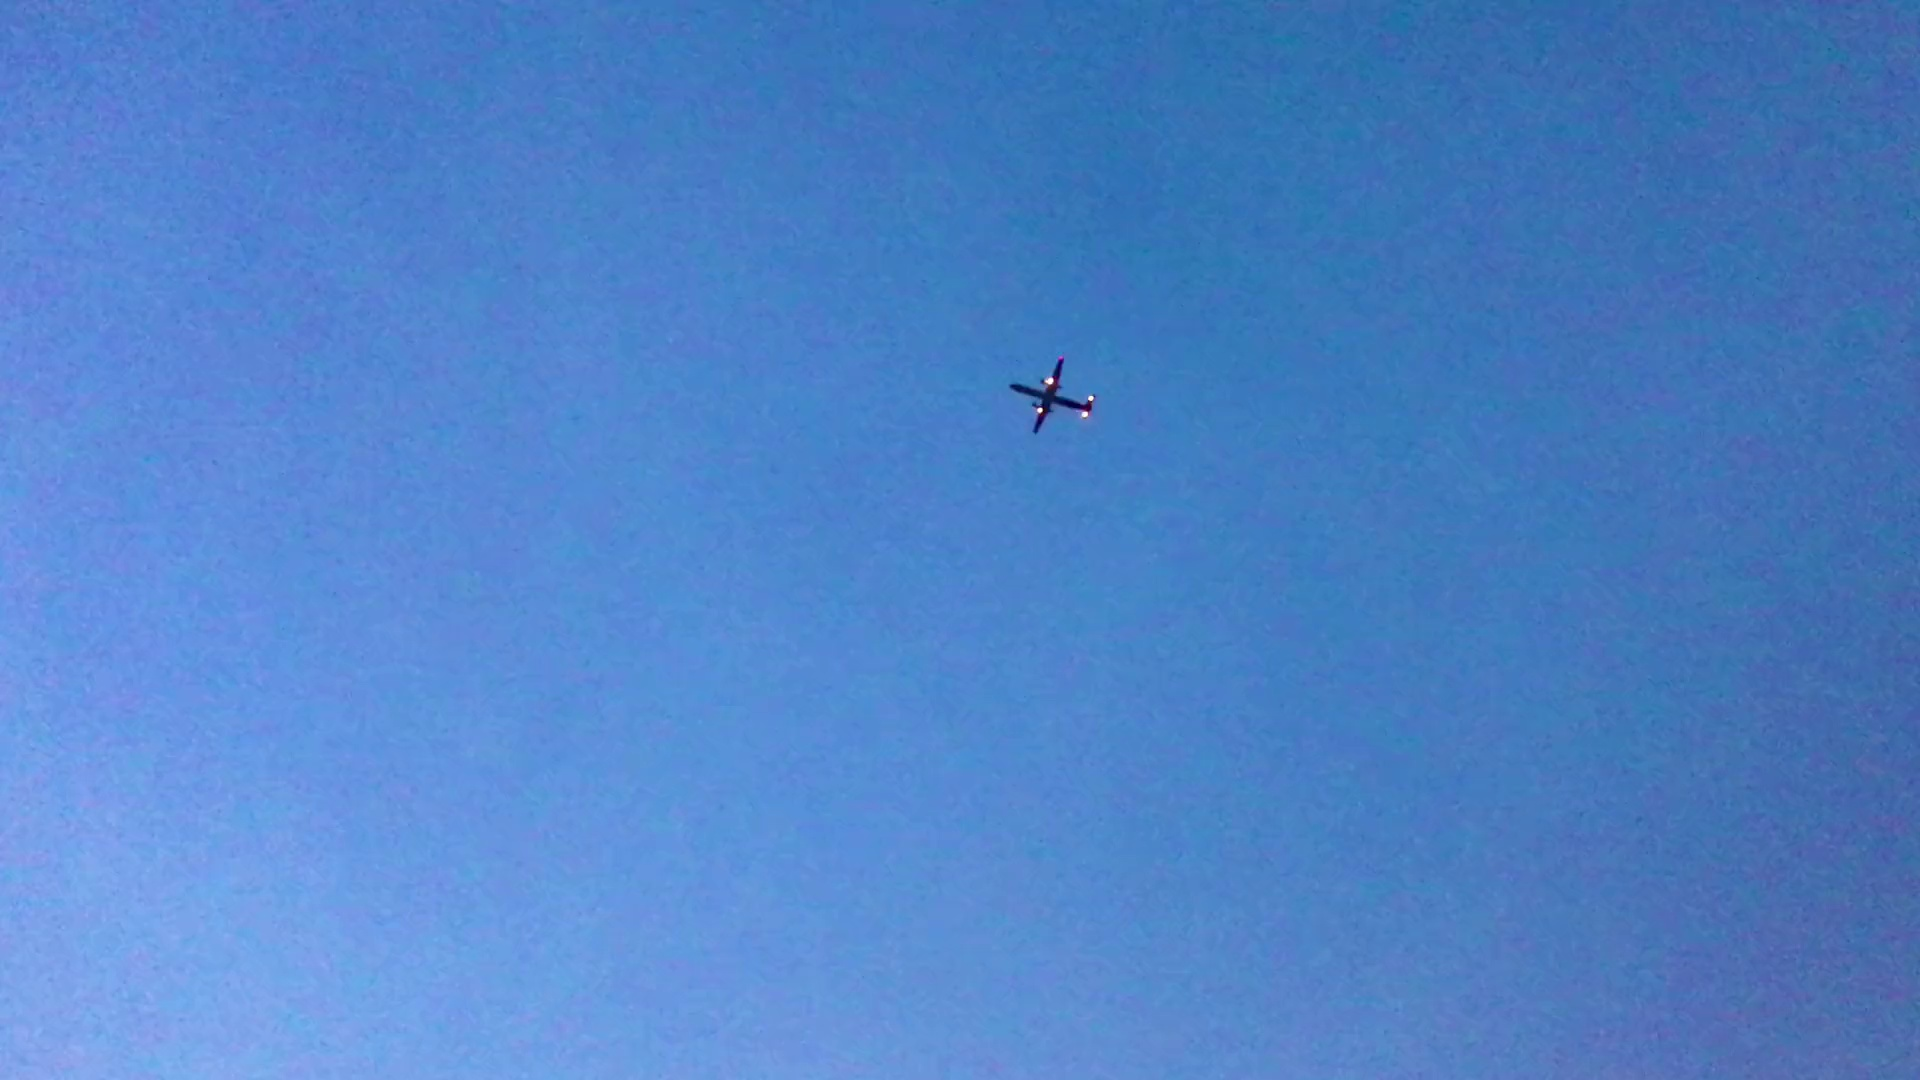plane: (1011, 352, 1096, 436)
